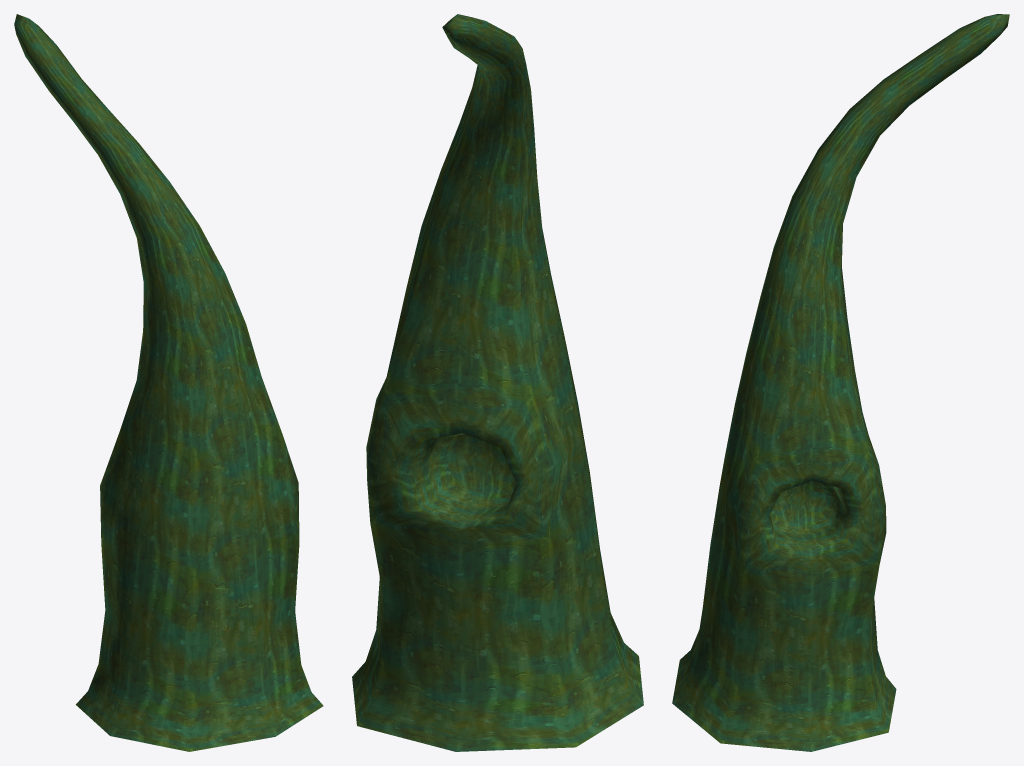
File: MIRKWOOD_MIRK_PLAYSURFACE206.fbx
3 renders of one model, left to right at view 1: azimuth 30°, elevation 25°; view 2: azimuth 150°, elevation 25°; view 3: azimuth 270°, elevation 25°, orthographic. The views are drawn at different scales.
Parts seen in each view (by area): view 1: MIRKWOOD_MIRK_PLAYSURFACE206; view 2: MIRKWOOD_MIRK_PLAYSURFACE206; view 3: MIRKWOOD_MIRK_PLAYSURFACE206.
Boxes of the visible parts, x1,y1,x2,y2 form: MIRKWOOD_MIRK_PLAYSURFACE206: [14, 14, 323, 751]; MIRKWOOD_MIRK_PLAYSURFACE206: [352, 14, 643, 751]; MIRKWOOD_MIRK_PLAYSURFACE206: [672, 14, 1009, 751].
Size of the model in its own units: 71998 by 212389 by 99726.
1 material, 1 textured.
